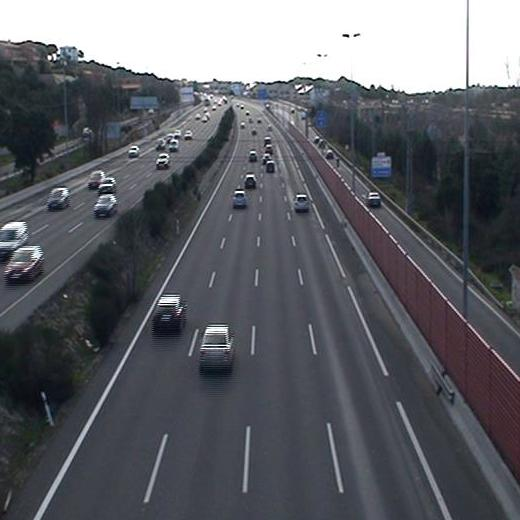car: (193, 321, 237, 383), (149, 288, 189, 337), (292, 190, 312, 217), (230, 187, 249, 213), (241, 171, 262, 191), (246, 148, 260, 163), (264, 158, 277, 173)
